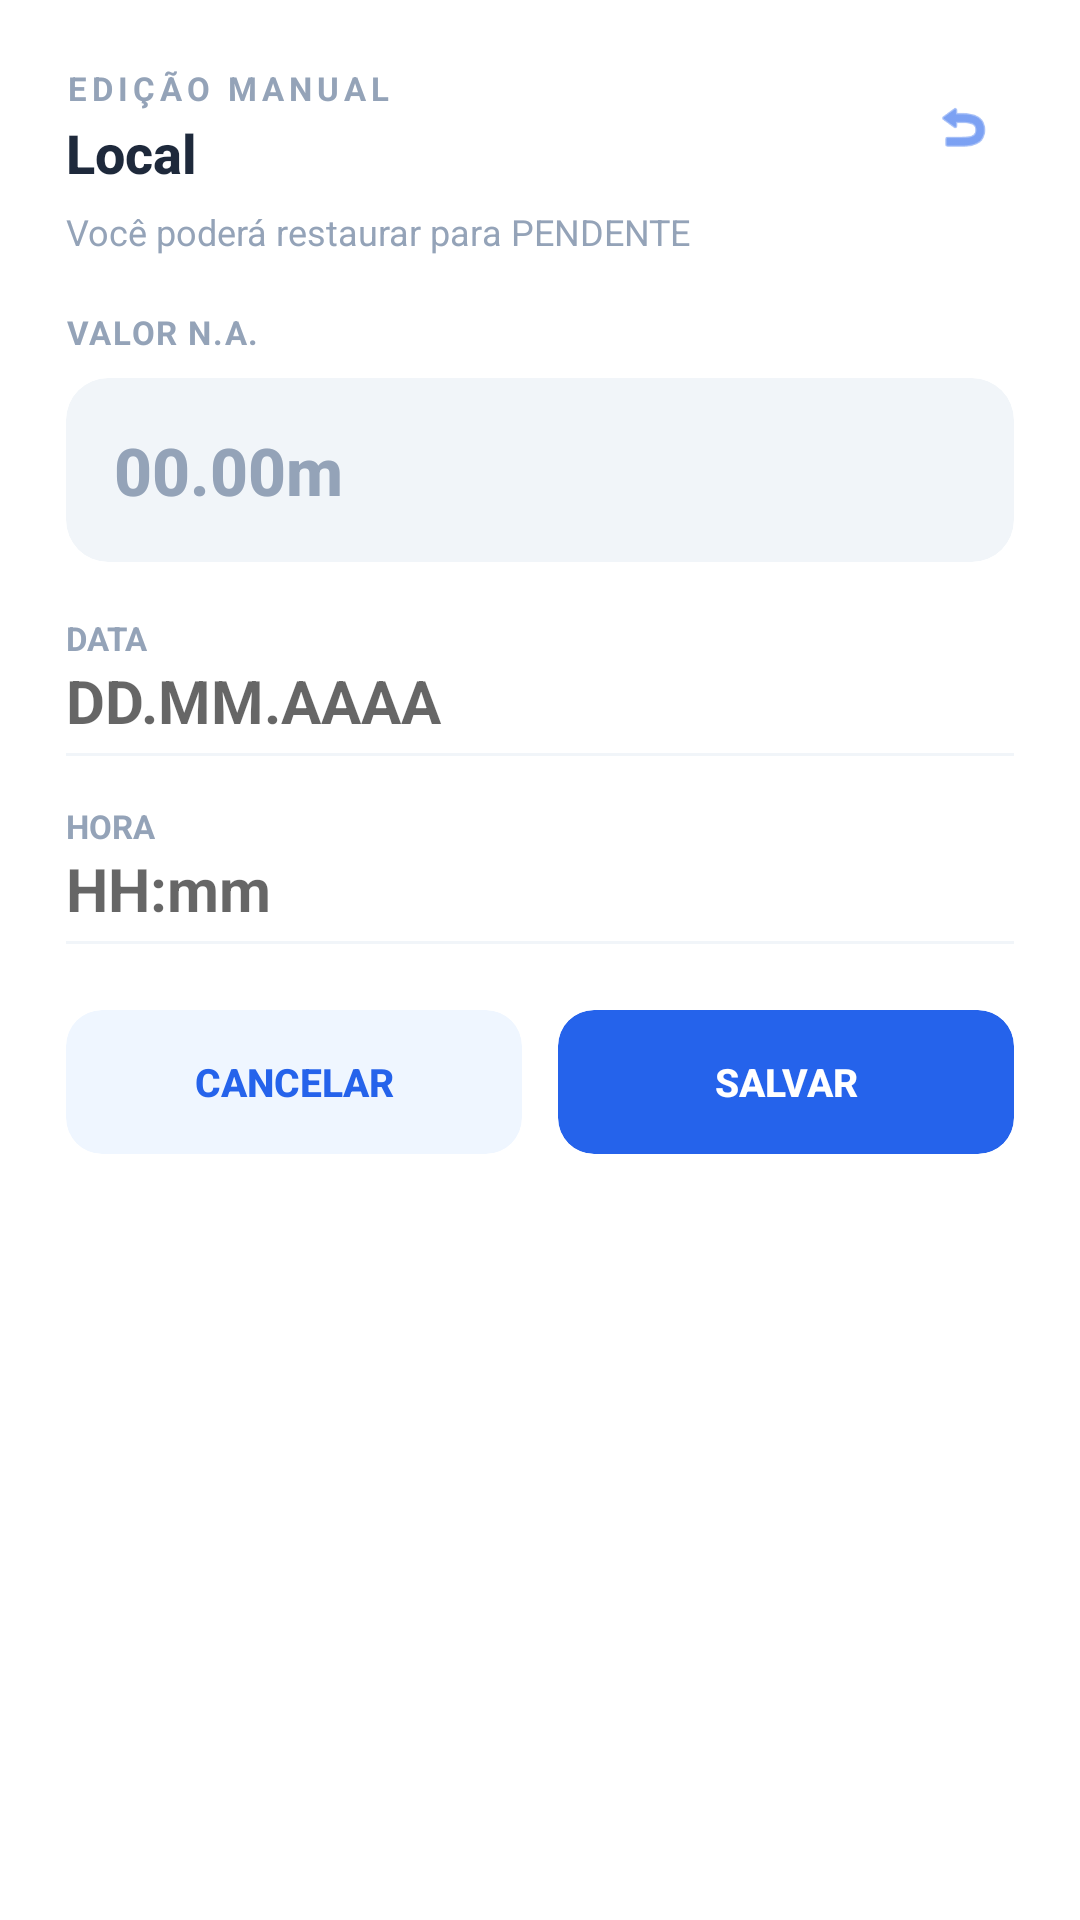

Named icons in this screenshot (1080*1920) and their bounding boxes, (x1, y1, x2, y2):
Restaurar original: (942, 108, 985, 147)
